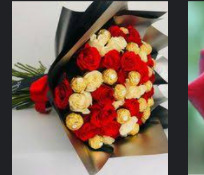RedRose: (27, 72, 58, 114), (53, 72, 74, 108), (75, 42, 102, 69)
